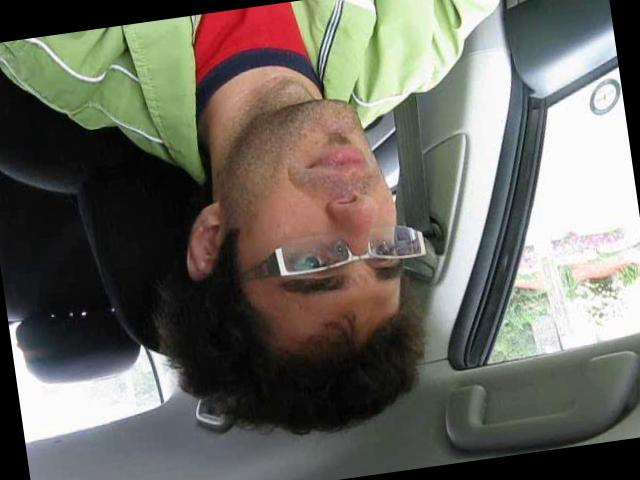eye_open: (280, 238, 342, 282), (364, 232, 407, 266)
face: (222, 98, 416, 324)
